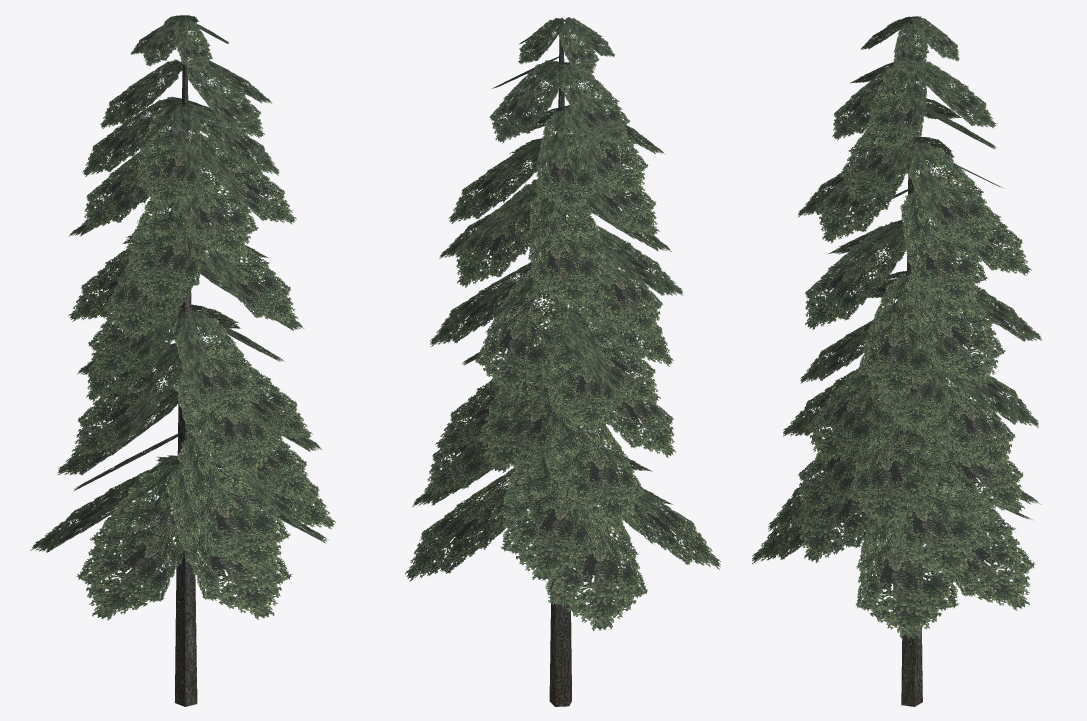
The model's file is PineTree01.obj.
The picture shows the model from 3 angles, left to right: view 1: azimuth 30°, elevation 25°; view 2: azimuth 150°, elevation 25°; view 3: azimuth 270°, elevation 25°; orthographic projection.
Visible parts, largest first — view 1: PineTree01; view 2: PineTree01; view 3: PineTree01.
Boxes of the visible parts, x1=… form: PineTree01: x1=30, y1=15, x2=335, y2=706; PineTree01: x1=405, y1=17, x2=720, y2=706; PineTree01: x1=752, y1=16, x2=1042, y2=706.
Size of the model in its own units: 7.26 by 16.17 by 6.87.
